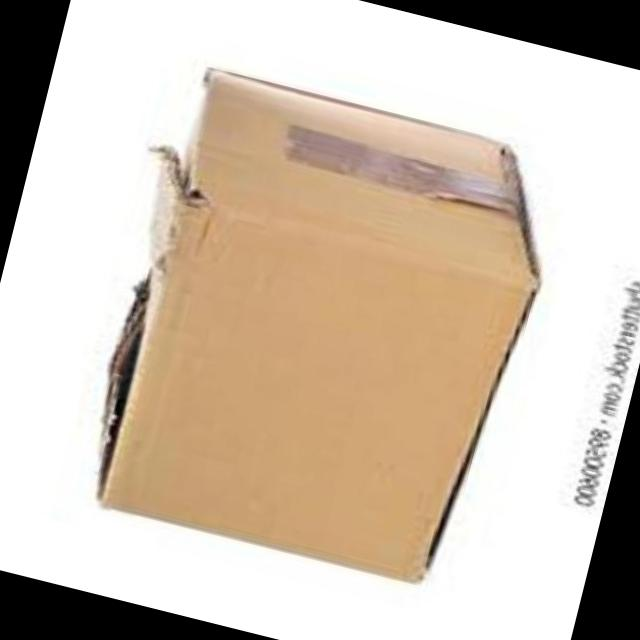tear: (97, 145, 210, 499)
